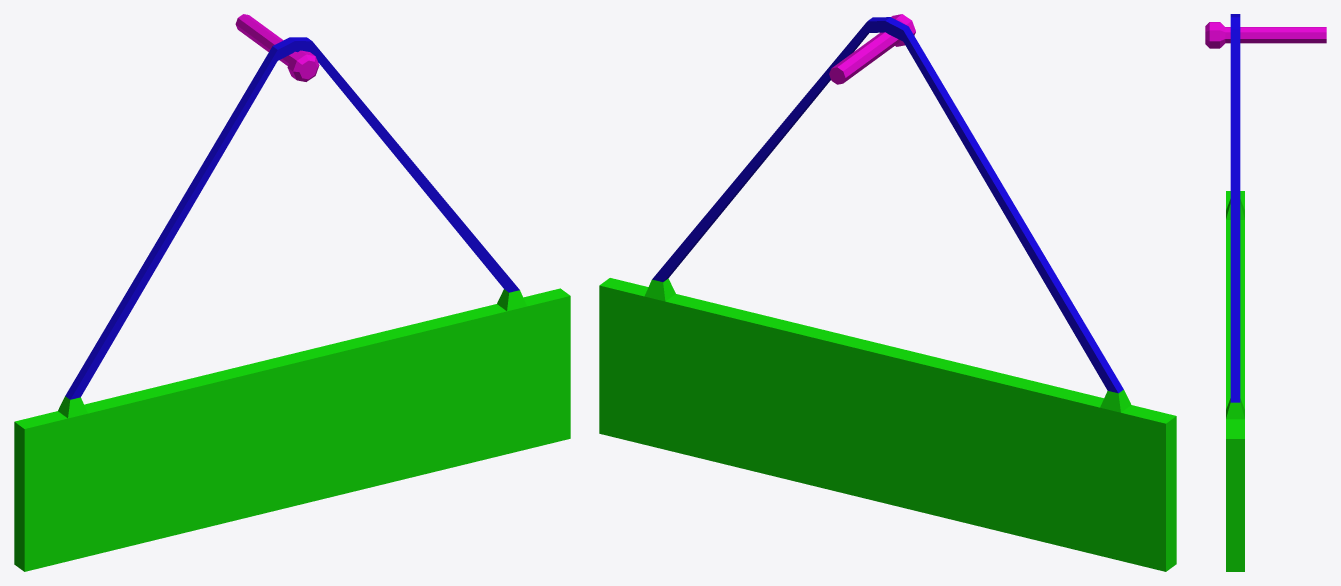
The model's file is insegna_pulizia.fbx.
3 renders of one model, left to right at view 1: azimuth 30°, elevation 25°; view 2: azimuth 150°, elevation 25°; view 3: azimuth 270°, elevation 25°, orthographic. The views are drawn at different scales.
Parts seen in each view (by area): view 1: Igiene casa persona; view 2: Igiene casa persona; view 3: Igiene casa persona.
Part boxes in pixels (x1=…): Igiene casa persona: x1=14, y1=14, x2=570, y2=571; Igiene casa persona: x1=599, y1=14, x2=1176, y2=571; Igiene casa persona: x1=1205, y1=14, x2=1326, y2=571.
Bounding box in the file's own units: 600 × 486 × 124.
